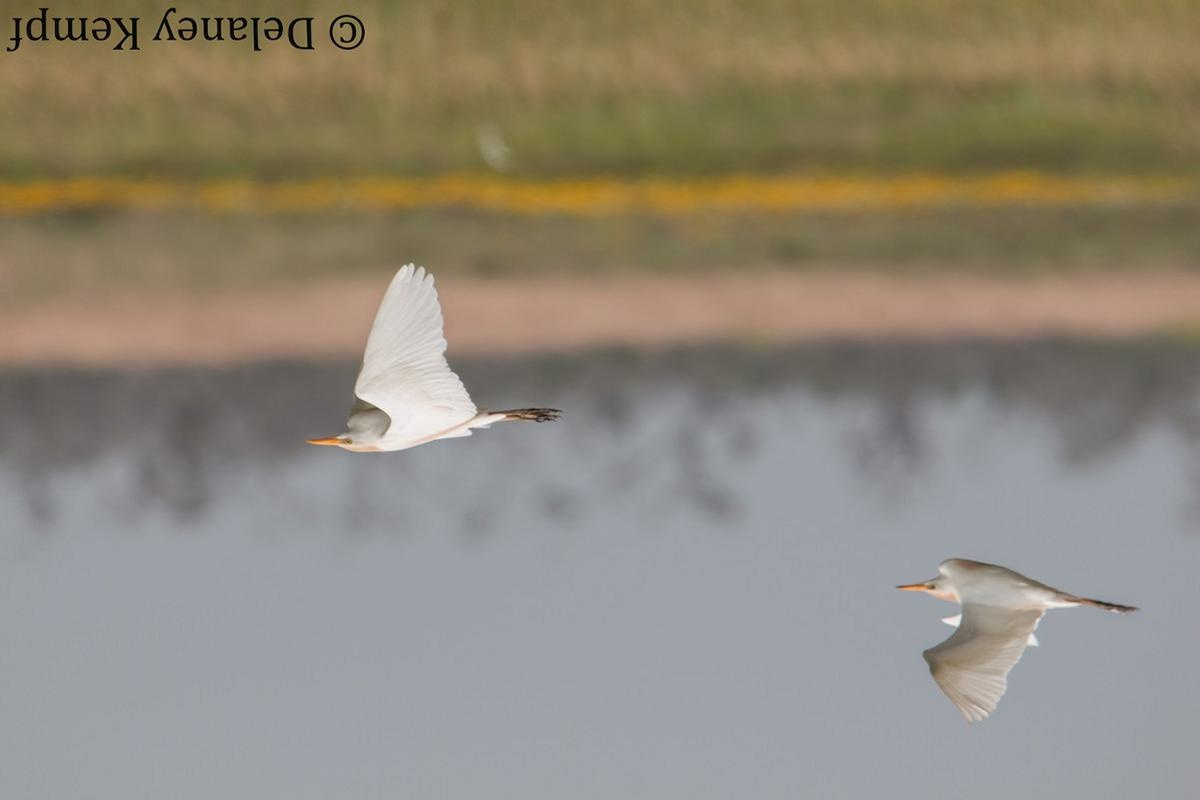egret: (302, 246, 563, 471), (896, 552, 1156, 736)
